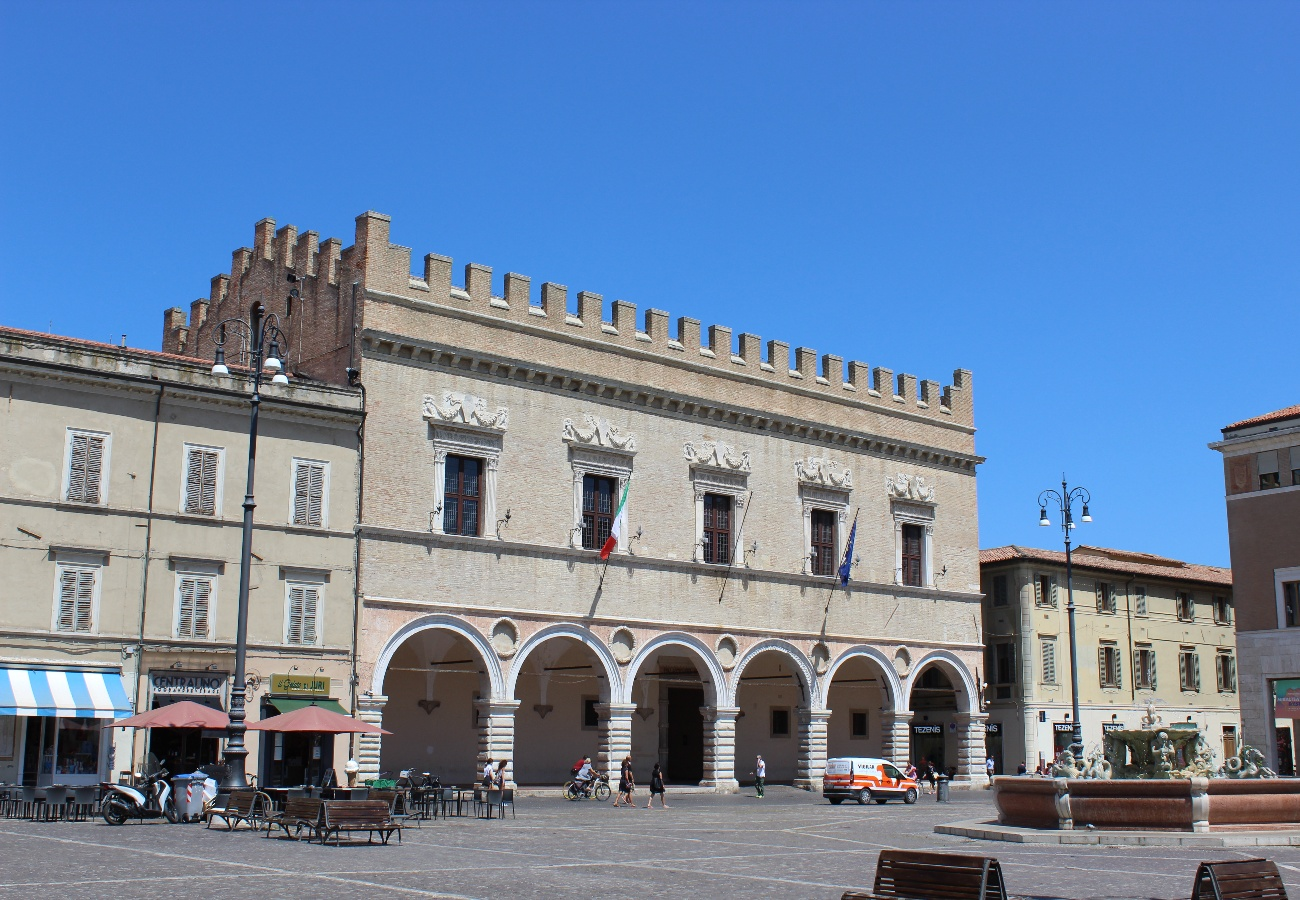Fontana Piazza del Popolo: (1107, 722, 1209, 780)
Palazzo Ducale: (365, 216, 982, 787)
